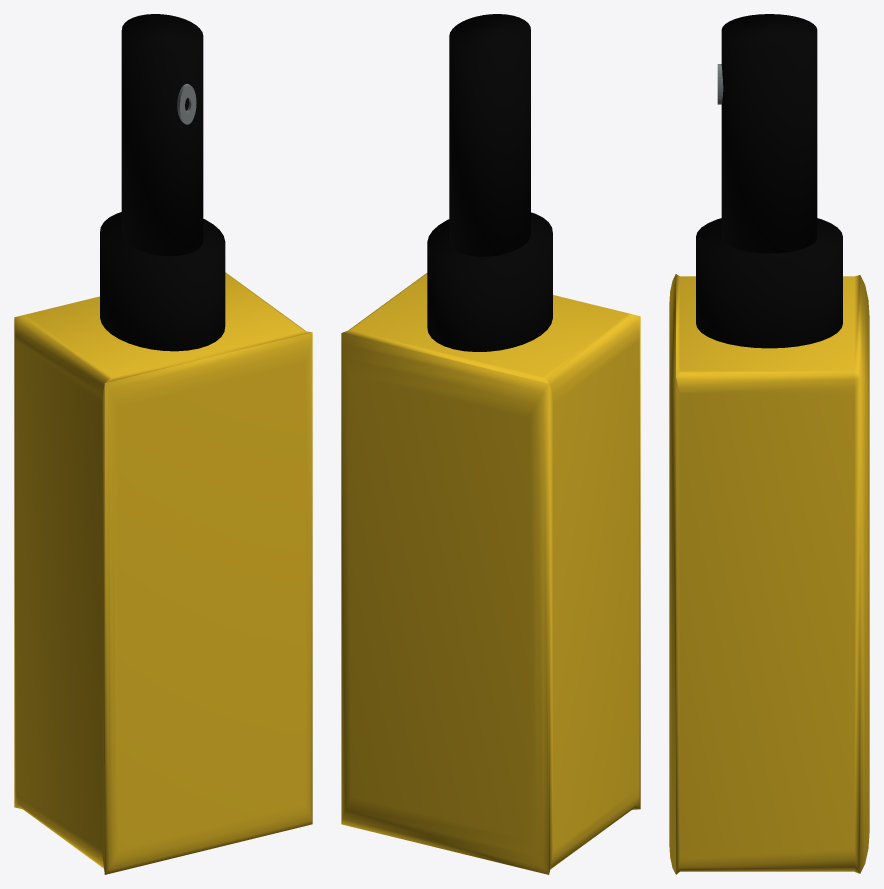
The model's file is Yellow Perfume.fbx.
3 renders of one model, left to right at view 1: azimuth 30°, elevation 25°; view 2: azimuth 150°, elevation 25°; view 3: azimuth 270°, elevation 25°, orthographic.
Parts seen in each view (by area): view 1: Perfume Yellow; view 2: Perfume Yellow; view 3: Perfume Yellow.
Part boxes in pixels (x1,y1,x2,y2): Perfume Yellow: (14, 14, 312, 874); Perfume Yellow: (341, 14, 640, 874); Perfume Yellow: (669, 14, 869, 874).
Size of the model in its own units: 32.5 by 116 by 26.55.
